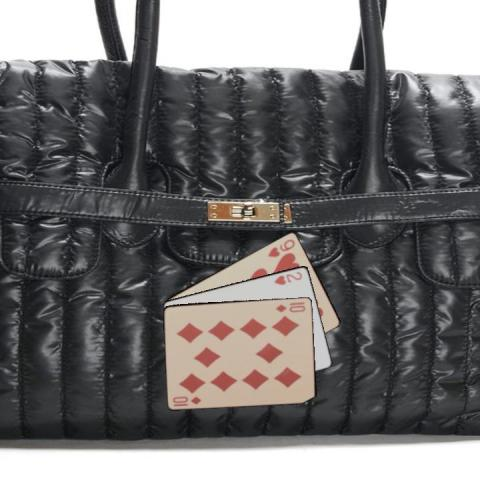10d: (170, 394, 203, 407), (272, 302, 306, 314)
2h: (272, 269, 304, 286)
9h: (264, 235, 296, 259)
